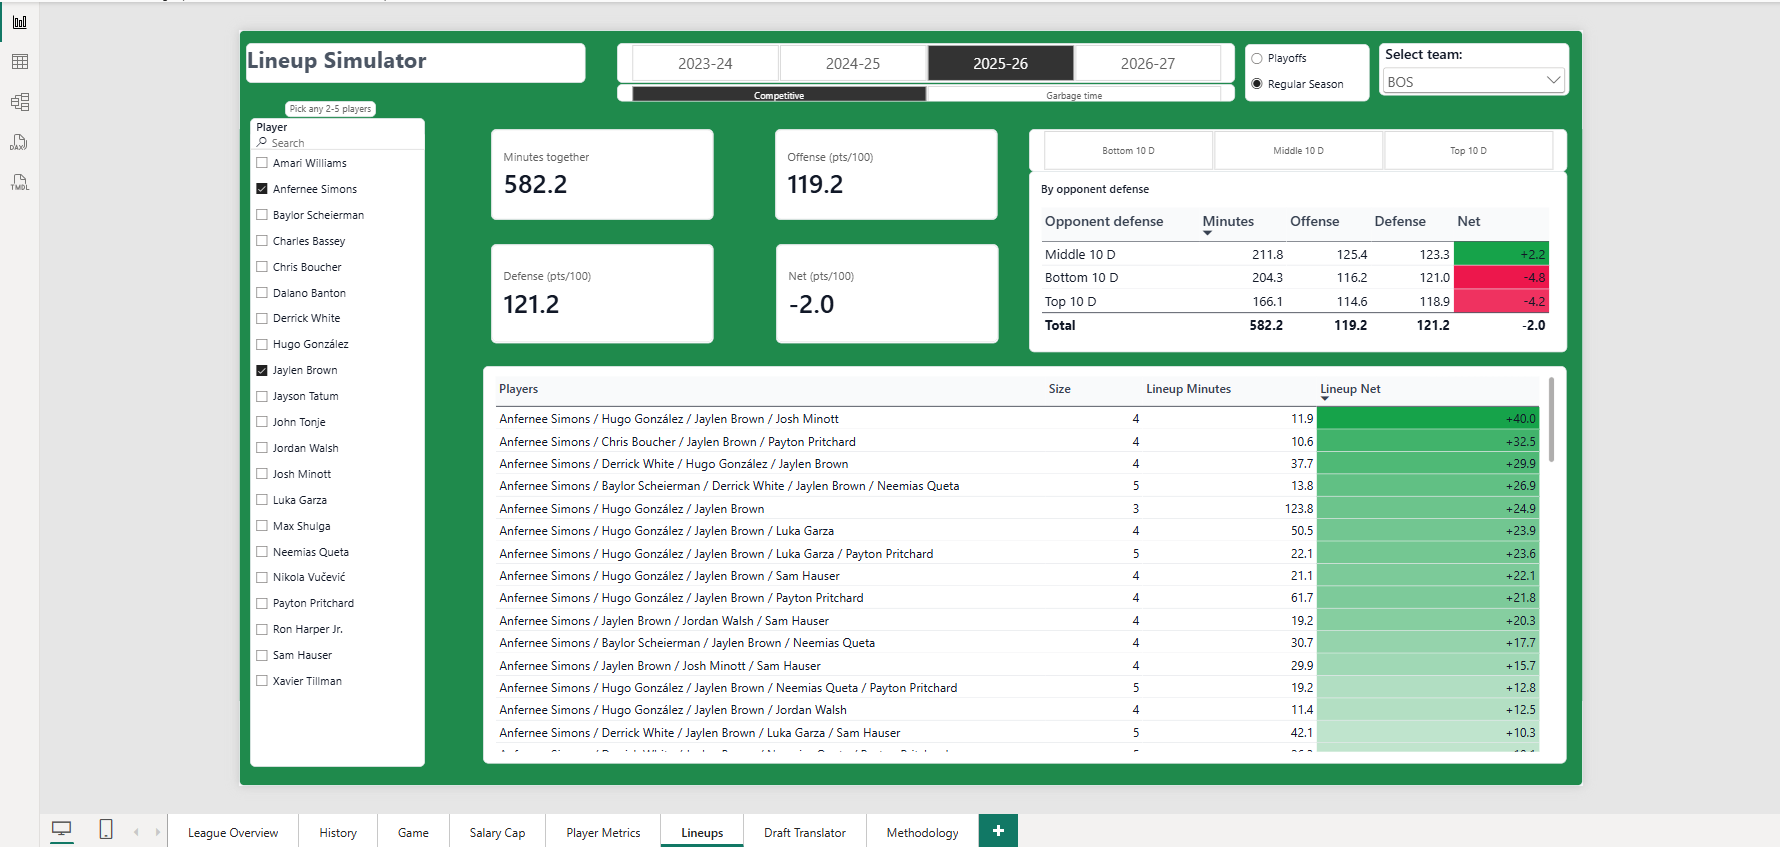

The dashboard page shown, as its layout file describes it:
{"tool":"powerbi","page":{"name":"Lineups","canvas":[1595,1080],"ordinal":5},"visuals":[{"type":"textbox","box":[0,0,250,50],"z":0},{"type":"slicer","fields":{"Values":["LineupCombos.season_type"]},"box":[956,50,548,60],"z":1000},{"type":"slicer","fields":{"Values":["Seasons.season"]},"box":[250,0,706,50],"z":2000},{"type":"slicer","fields":{"Values":["LineupCombos.opp_def_tier"]},"box":[250,50,706,60],"z":3000},{"type":"slicer","fields":{"Values":["LineupCombos.Game State"]},"box":[956,0,548,50],"z":4000},{"type":"slicer","fields":{"Values":["PlayerPick.Player"]},"box":[0,50,250,998.1],"z":5000},{"type":"cardVisual","fields":{"Data":["LineupCombos.Pick Minutes"]},"box":[266,128,318,168],"z":6000},{"type":"cardVisual","fields":{"Data":["LineupCombos.Pick Net"]},"box":[584,296,318,168],"z":7000},{"type":"cardVisual","fields":{"Data":["LineupCombos.Pick ORtg"]},"box":[584,128,318,168],"z":8000},{"type":"cardVisual","fields":{"Data":["LineupCombos.Pick DRtg"]},"box":[266,296,318,168],"z":9000},{"type":"tableEx","fields":{"Values":["LineupCombos.players","LineupCombos.size","LineupCombos.Lineup Minutes","LineupCombos.Lineup Net"]},"box":[270,480,1234,568],"z":10000},{"type":"tableEx","title":"By opponent defense","fields":{"Values":["LineupCombos.opp_def_tier","LineupCombos.Pick Minutes","LineupCombos.Pick ORtg","LineupCombos.Pick DRtg","LineupCombos.Pick Net"]},"box":[924,128,580,336],"z":11000}]}

Visuals, with their boxes on the page's 1595x1080 design canvas (x1, y1, x2, y2). These are canvas units, not pixel positions in the 1780x847 screenshot, which may show the page scaled, cropped or inside an application window:
textbox: bbox=(0, 0, 250, 50)
slicer - LineupCombos.season_type: bbox=(956, 50, 1504, 110)
slicer - Seasons.season: bbox=(250, 0, 956, 50)
slicer - LineupCombos.opp_def_tier: bbox=(250, 50, 956, 110)
slicer - LineupCombos.Game State: bbox=(956, 0, 1504, 50)
slicer - PlayerPick.Player: bbox=(0, 50, 250, 1048)
cardVisual - LineupCombos.Pick Minutes: bbox=(266, 128, 584, 296)
cardVisual - LineupCombos.Pick Net: bbox=(584, 296, 902, 464)
cardVisual - LineupCombos.Pick ORtg: bbox=(584, 128, 902, 296)
cardVisual - LineupCombos.Pick DRtg: bbox=(266, 296, 584, 464)
tableEx - LineupCombos.players x LineupCombos.size: bbox=(270, 480, 1504, 1048)
"By opponent defense" tableEx: bbox=(924, 128, 1504, 464)
